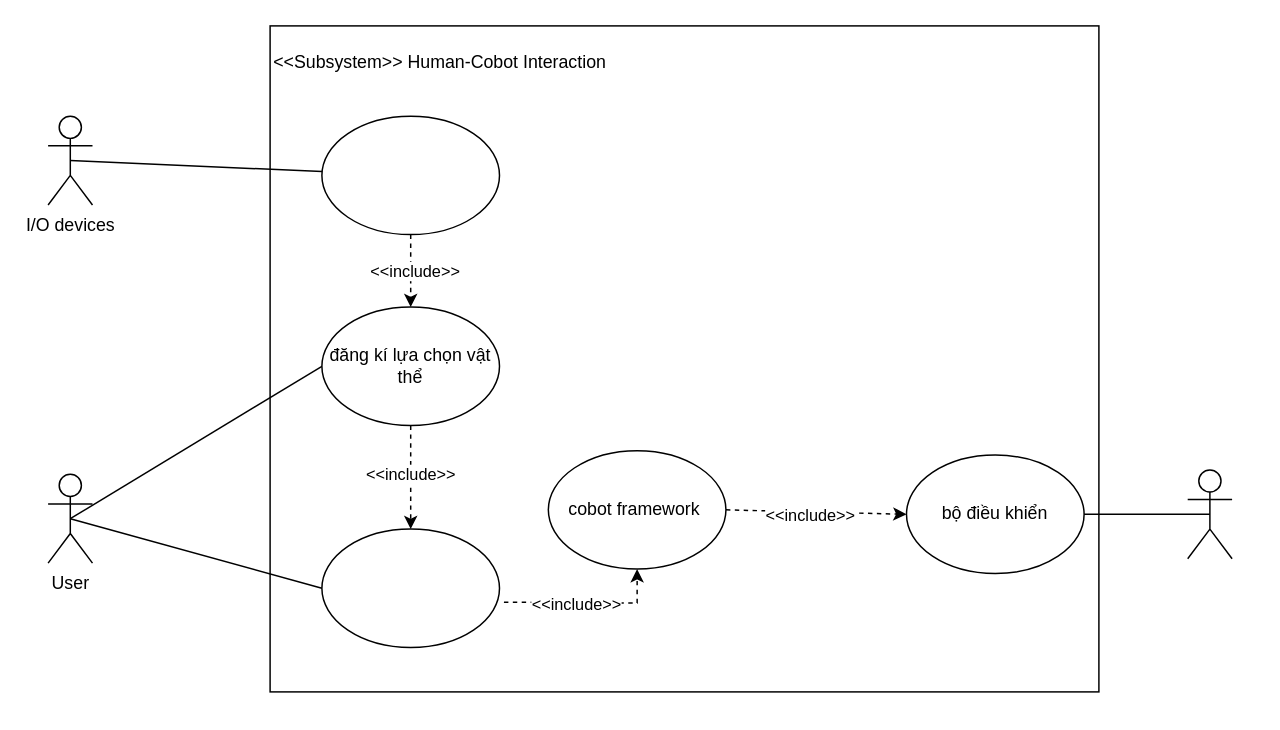
The diagram is 1280 pixels wide and 730 high, and some of its shapes have lost their labels. Each missing label, with the box of its shape:
cobot vật lý: (1186, 468, 1232, 559)
lựa chọn tương tác với vật thể: (320, 528, 500, 648)
phát hiện thêm vật thể: (320, 115, 500, 235)
